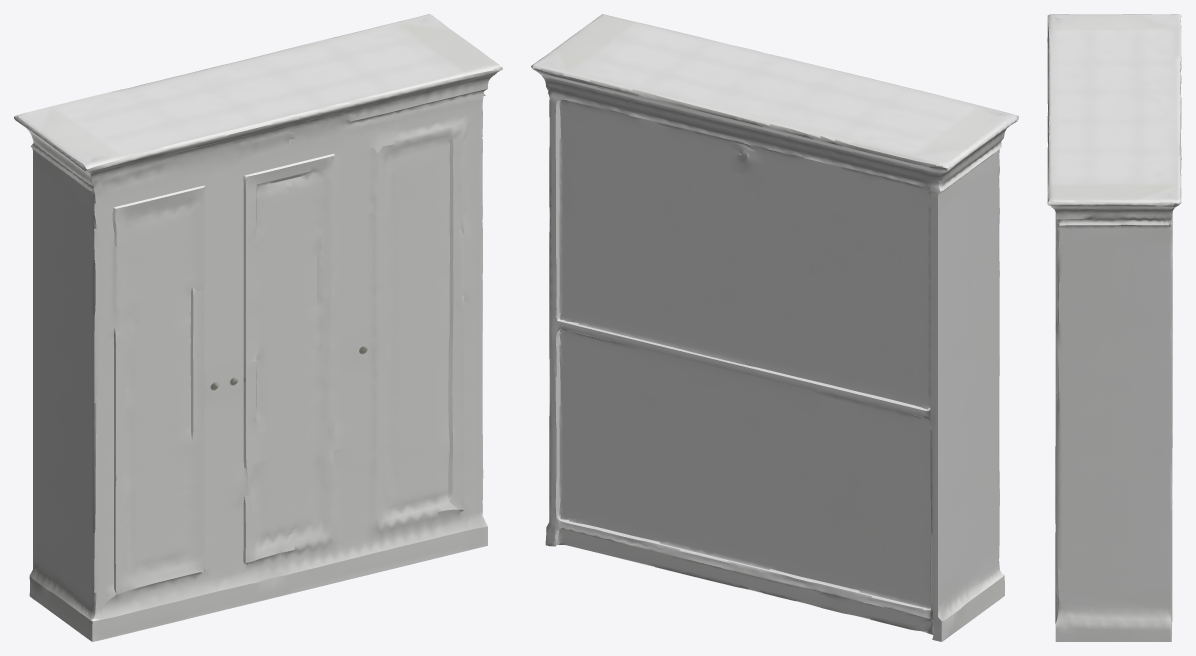
3 views of the same model, side by side, from view 1: azimuth 30°, elevation 25°; view 2: azimuth 150°, elevation 25°; view 3: azimuth 270°, elevation 25° (orthographic). The views are drawn at different scales.
Visible parts, largest first — view 1: Mesh_0; view 2: Mesh_0; view 3: Mesh_0.
Part boxes in pixels (x1,y1,x2,y2): Mesh_0: (14, 14, 502, 641); Mesh_0: (531, 14, 1018, 641); Mesh_0: (1047, 14, 1181, 641).
Bounding box in the file's own units: 2 × 2.2 × 0.6.
Materials: 1 (1 with a texture image).
